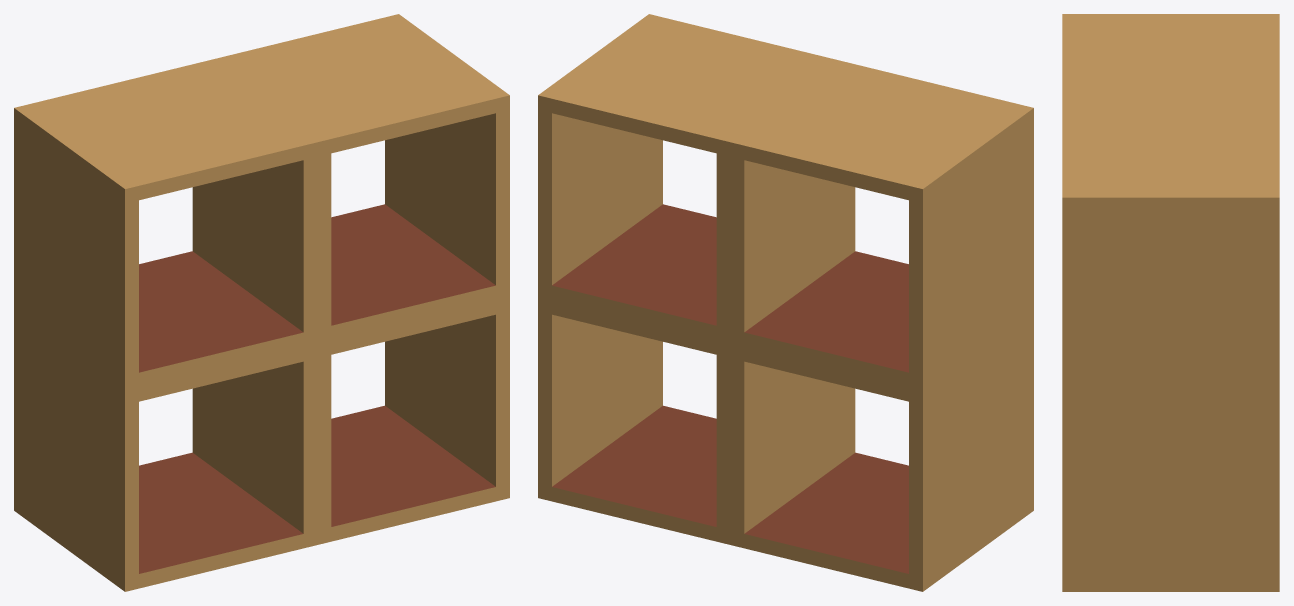
The model's file is Interior_Shelf_Cube3.fbx.
3 views of the same model, side by side, from view 1: azimuth 30°, elevation 25°; view 2: azimuth 150°, elevation 25°; view 3: azimuth 270°, elevation 25° (orthographic). The views are drawn at different scales.
Visible parts, largest first — view 1: Cube.353; view 2: Cube.353; view 3: Cube.353.
Boxes of the visible parts, x1=… form: Cube.353: x1=14, y1=14, x2=509, y2=591; Cube.353: x1=538, y1=14, x2=1033, y2=591; Cube.353: x1=1062, y1=14, x2=1279, y2=591.
Size of the model in its own units: 109 by 109 by 54.53.
